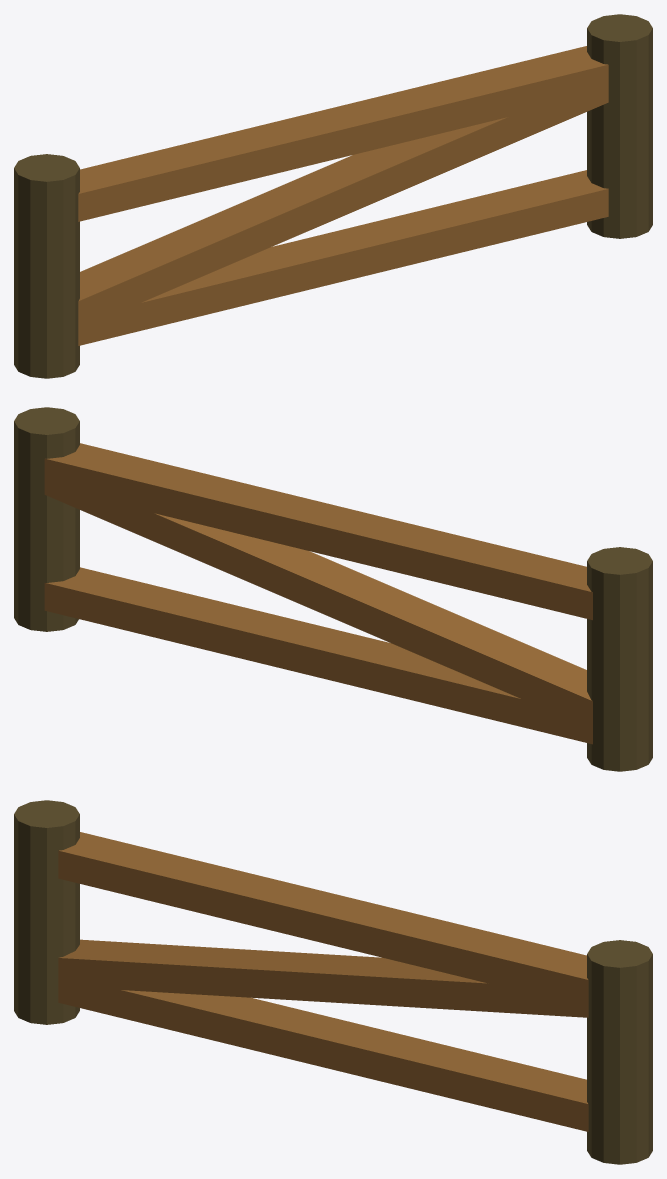
File: FenceGate.fbx
3 renders of one model, top to bottom at view 1: azimuth 30°, elevation 25°; view 2: azimuth 150°, elevation 25°; view 3: azimuth 330°, elevation 25°, orthographic.
Parts seen in each view (by area): view 1: Fence Post.003; view 2: Fence Post.003; view 3: Fence Post.003.
Part boxes in pixels (x1,y1,x2,y2): Fence Post.003: [14, 14, 652, 378]; Fence Post.003: [14, 407, 652, 771]; Fence Post.003: [14, 800, 652, 1164].
Size of the model in its own units: 552 by 165 by 50.
